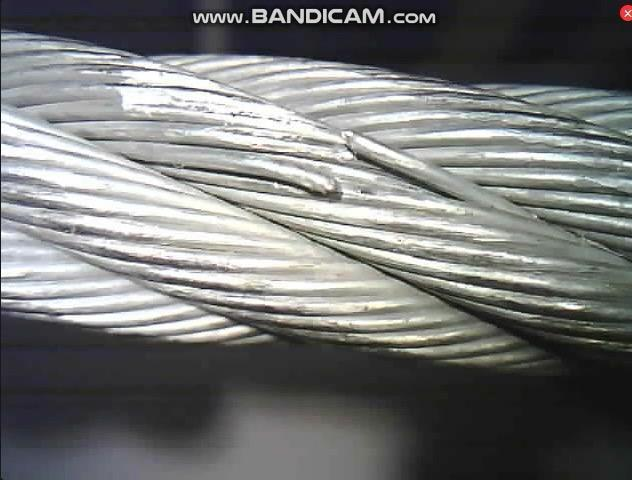break: (289, 128, 380, 203)
